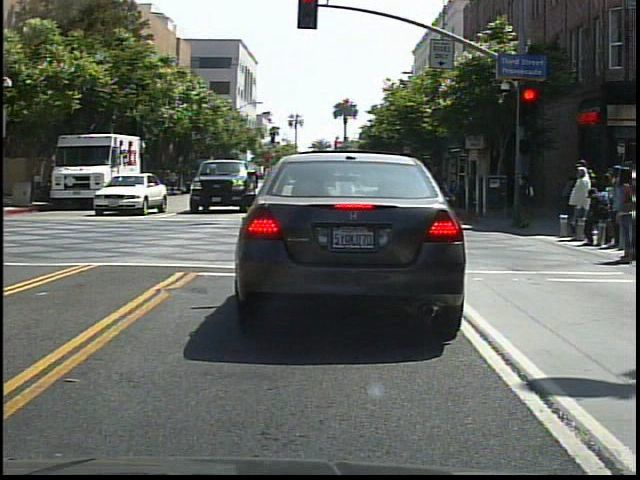person: (567, 162, 599, 258), (422, 162, 455, 228), (517, 167, 543, 232)
